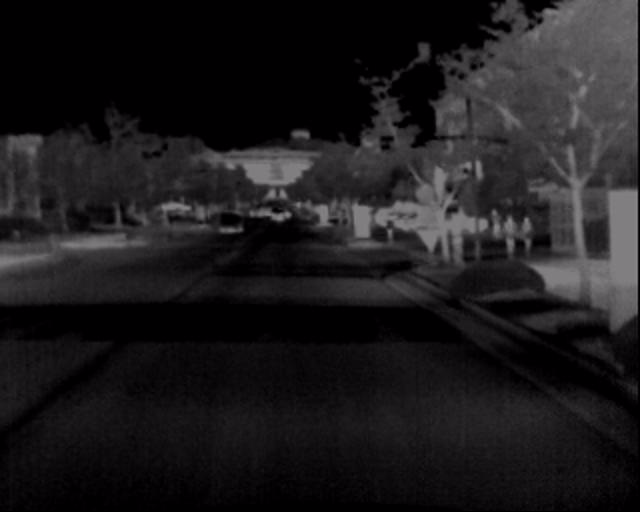person: (448, 214, 472, 269), (503, 209, 525, 260), (521, 211, 542, 257)
